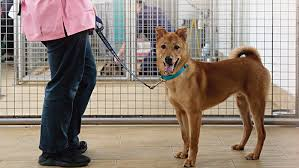dog: (157, 42, 182, 76)
